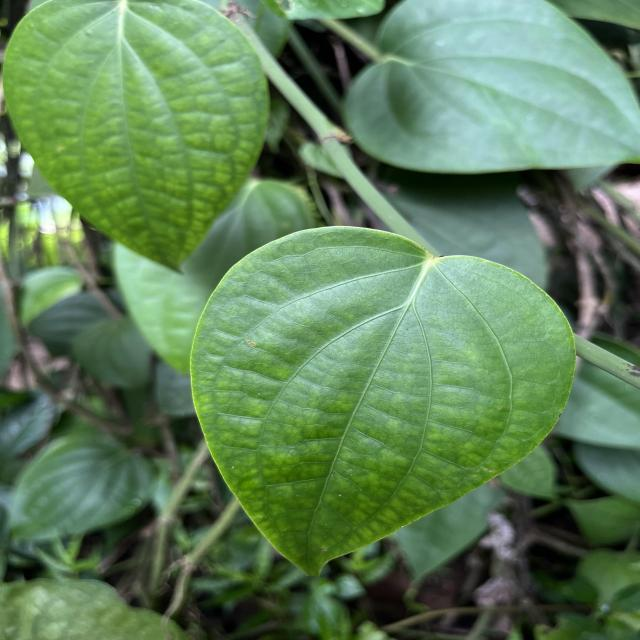Piper nigrum: (186, 225, 578, 580)
